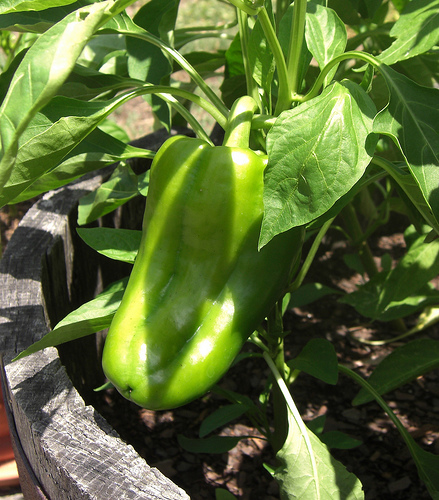capsicum: (102, 95, 298, 412)
